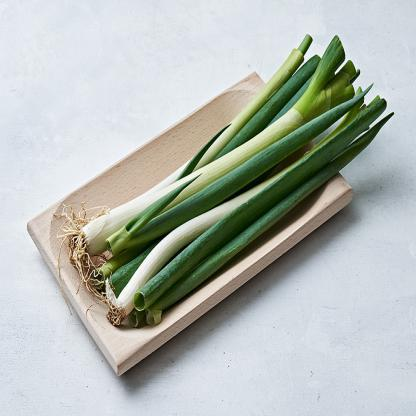green onion: (64, 30, 394, 342)
